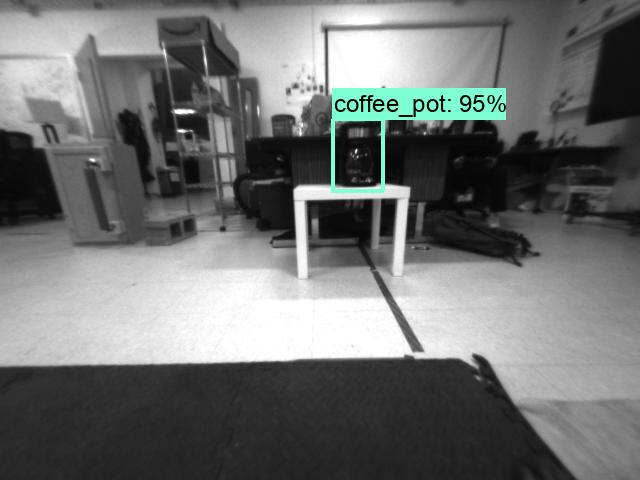coffee_pot: (336, 120, 381, 190)
